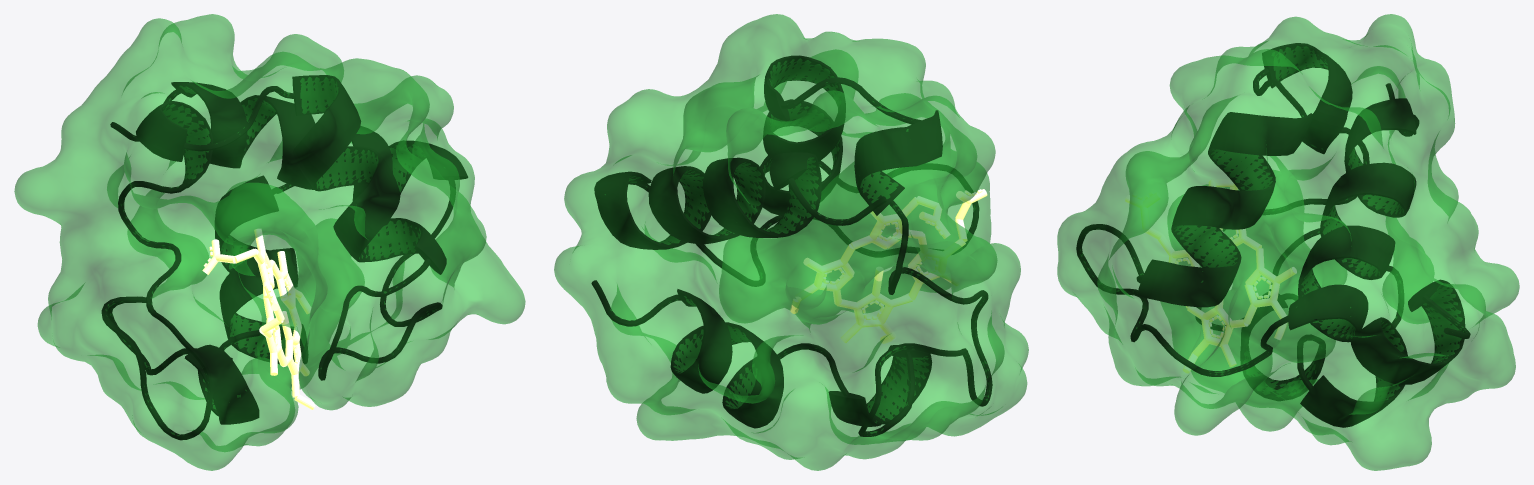
Rendered from practice_molecules_cytochrome_c.glb.
3 views of the same model, side by side, from view 1: azimuth 30°, elevation 25°; view 2: azimuth 150°, elevation 25°; view 3: azimuth 270°, elevation 25° (orthographic). The views are drawn at different scales.
Visible parts, largest first — view 1: Shape_IndexedFaceSet.001_0; view 2: Shape_IndexedFaceSet.001_0; view 3: Shape_IndexedFaceSet.001_0.
Boxes of the visible parts, bbox=[...] form: Shape_IndexedFaceSet.001_0: bbox=[14, 14, 525, 470]; Shape_IndexedFaceSet.001_0: bbox=[554, 14, 1028, 470]; Shape_IndexedFaceSet.001_0: bbox=[1057, 14, 1519, 470].
Size of the model in its own units: 0.2186 by 0.1945 by 0.2069.
